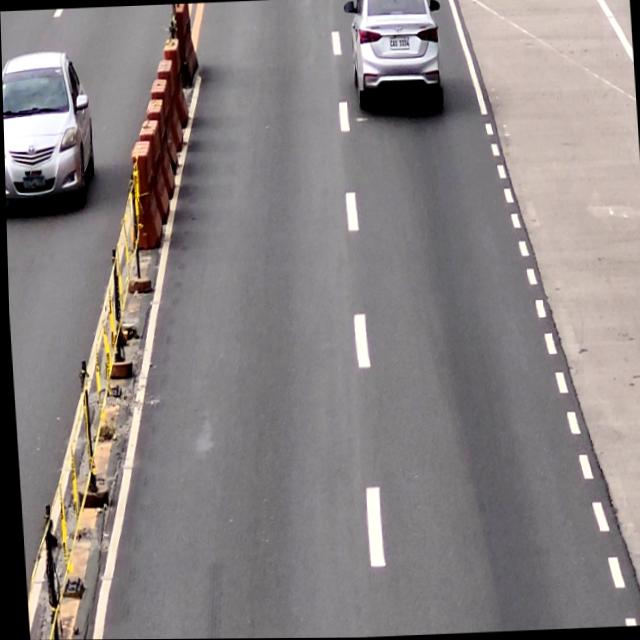Car: (342, 0, 446, 113)
License-Plate: (388, 36, 410, 51)
